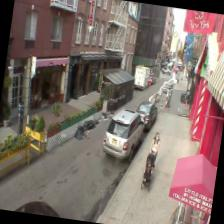person: (147, 131, 161, 171)
